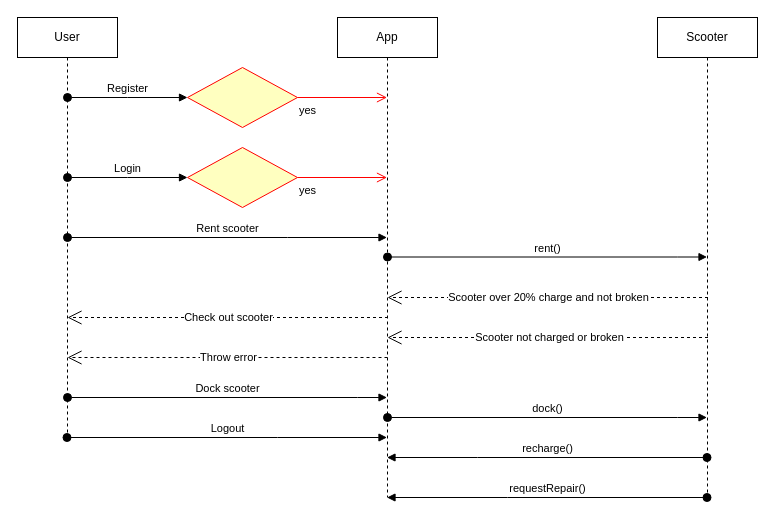
Some shapes in this 775 by 526 pixel diagram are drawn without their labels. Each missing label, with the centre of its shape:
"correct username and password" belongs at [242,177].
"not registered, over18" belongs at [242,97].
